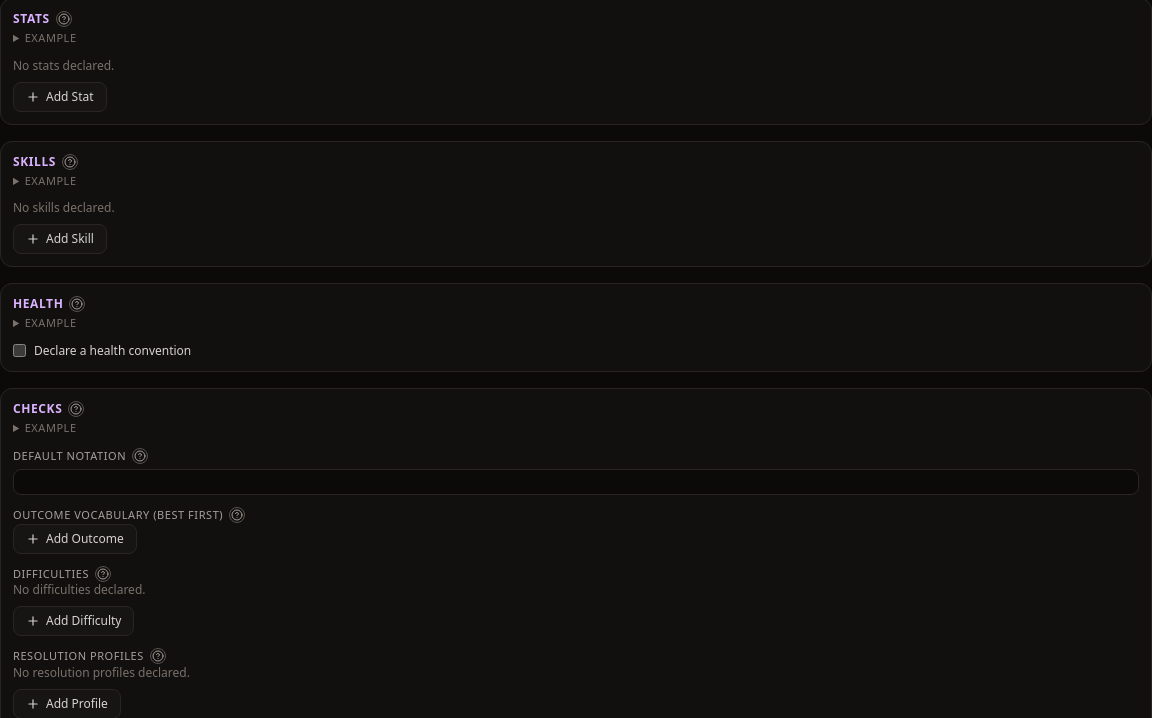
Test: MechanicsEditor › exposes the opposed stat and tie rule on a profile
Click the button "Add Profile" at (67, 704), box x1=13 y1=689 x2=121 y2=717
(page scrolled)
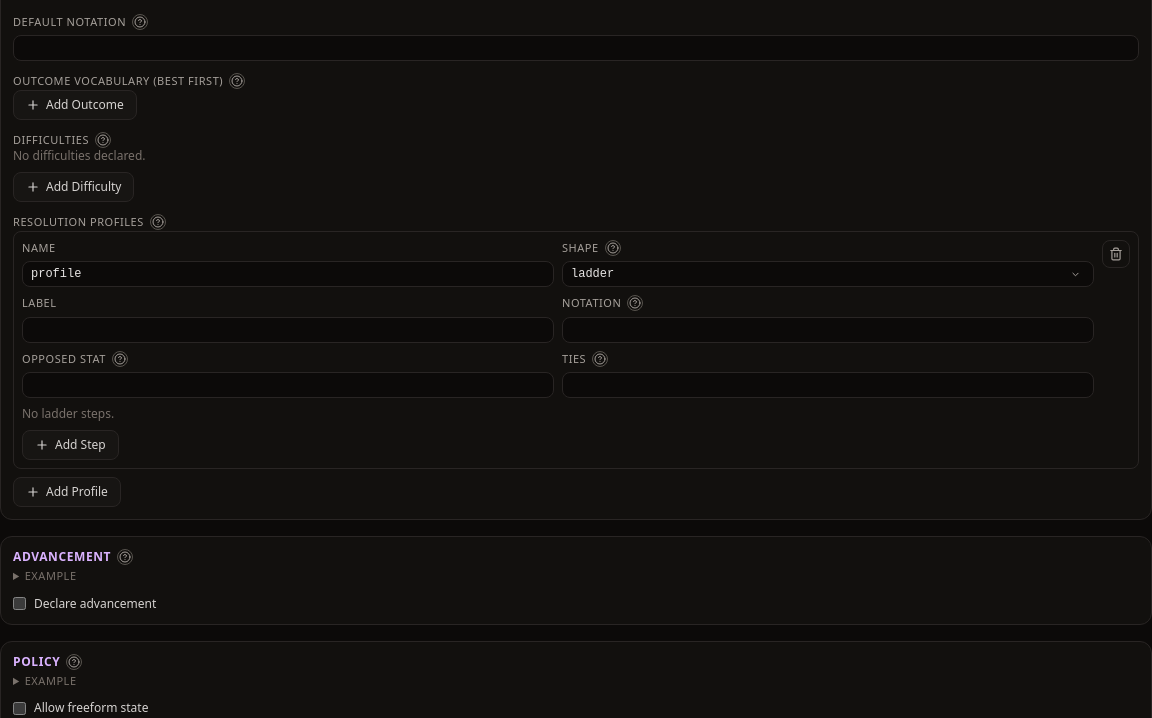
Check: the text "Opposed stat" is shown, box x1=22 y1=351 x2=106 y2=367
Check: the text "Ties" is shown, box x1=562 y1=351 x2=586 y2=367
